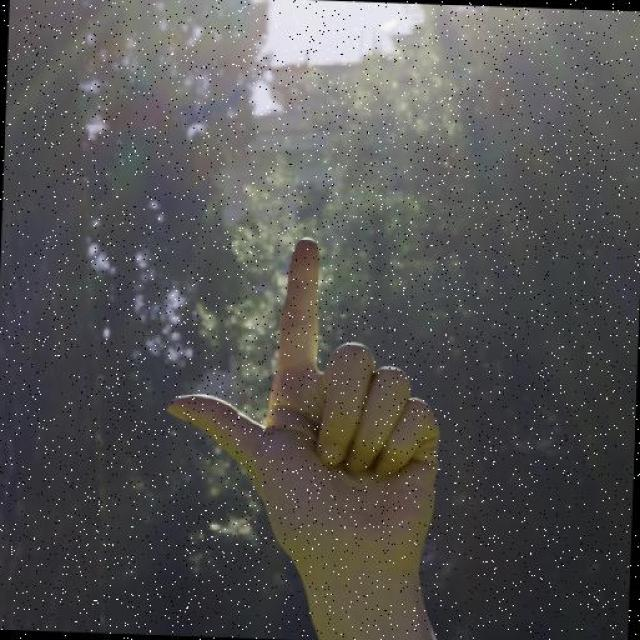L: (162, 230, 449, 560)
